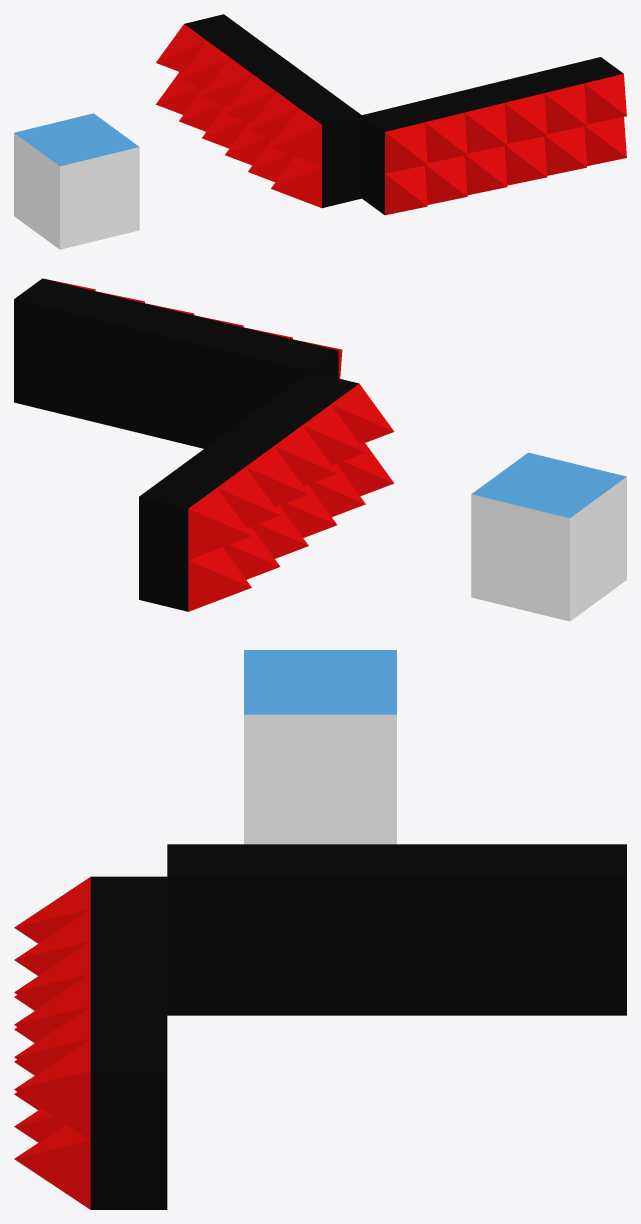
File: engine.gltf
3 renders of one model, top to bottom at view 1: azimuth 30°, elevation 25°; view 2: azimuth 150°, elevation 25°; view 3: azimuth 270°, elevation 25°, orthographic. The views are drawn at different scales.
Parts seen in each view (by area): view 1: Spikes.001, Spikes, Player, SpikeBase, SpikeBase.001; view 2: SpikeBase.001, Spikes, Player, SpikeBase, Spikes.001; view 3: SpikeBase, Player, SpikeBase.001, Spikes.001.
Part boxes in pixels (box(x1,y1,x2,y2)): Spikes.001: box(385, 73, 626, 215); Spikes: box(156, 24, 321, 207); Player: box(14, 113, 139, 249); SpikeBase: box(184, 14, 361, 208); SpikeBase.001: box(362, 57, 623, 214); SpikeBase.001: box(14, 278, 338, 448); Spikes: box(188, 383, 394, 611); Player: box(471, 452, 626, 621); SpikeBase: box(139, 371, 358, 611); Spikes.001: box(47, 279, 342, 378); SpikeBase: box(167, 844, 626, 1015); Player: box(244, 650, 396, 844); SpikeBase.001: box(90, 876, 167, 1209); Spikes.001: box(14, 877, 90, 1209).
Size of what is drawn, in the model's own units: 13 by 2 by 8.
